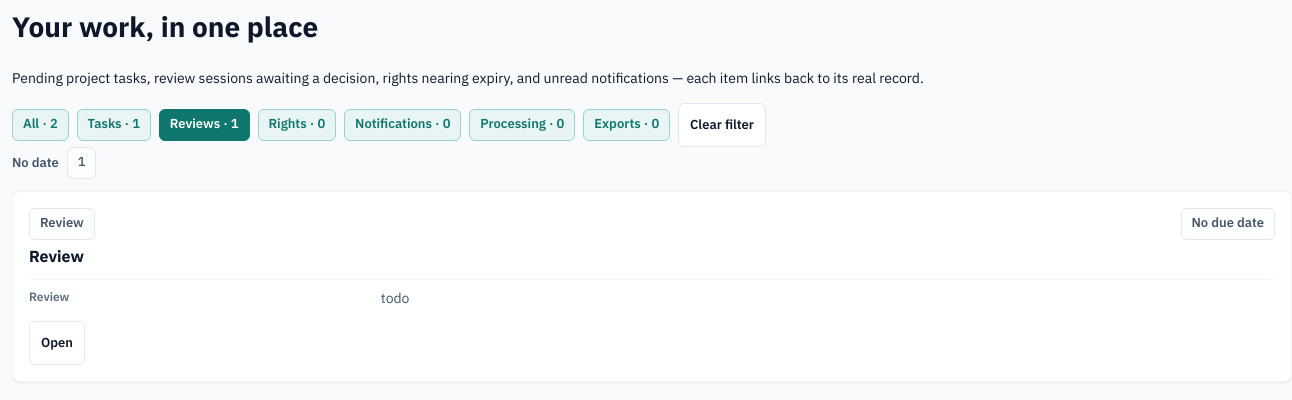
Test: restores and persists the user-scoped inbox source filter without another fetch
Expected: the heading "Review" is shown, top-left (29, 244), bottom-right (84, 268)
Click the button "Tasks · 1" at (114,124), box top-left (77, 108), bottom-right (151, 140)
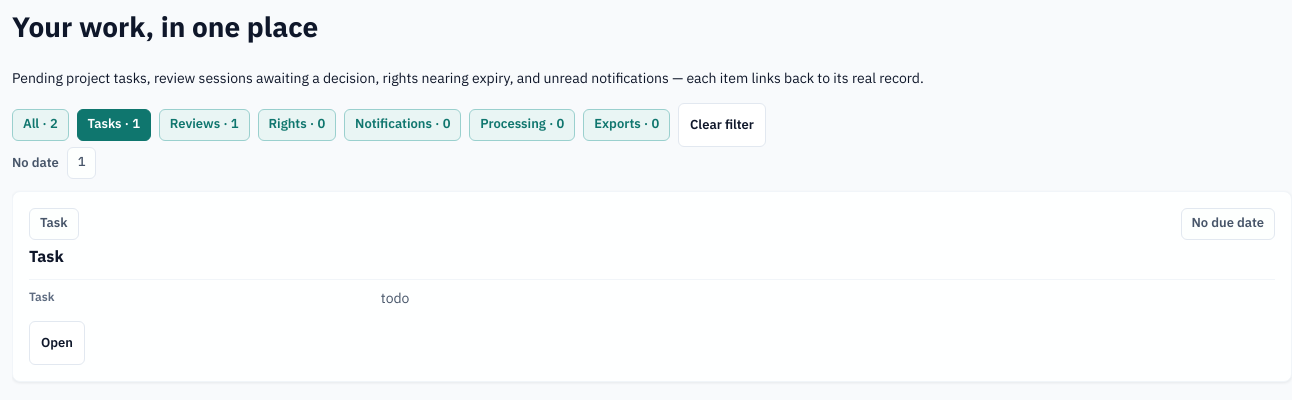
Expected: the heading "Task" is shown, top-left (29, 244), bottom-right (64, 268)
